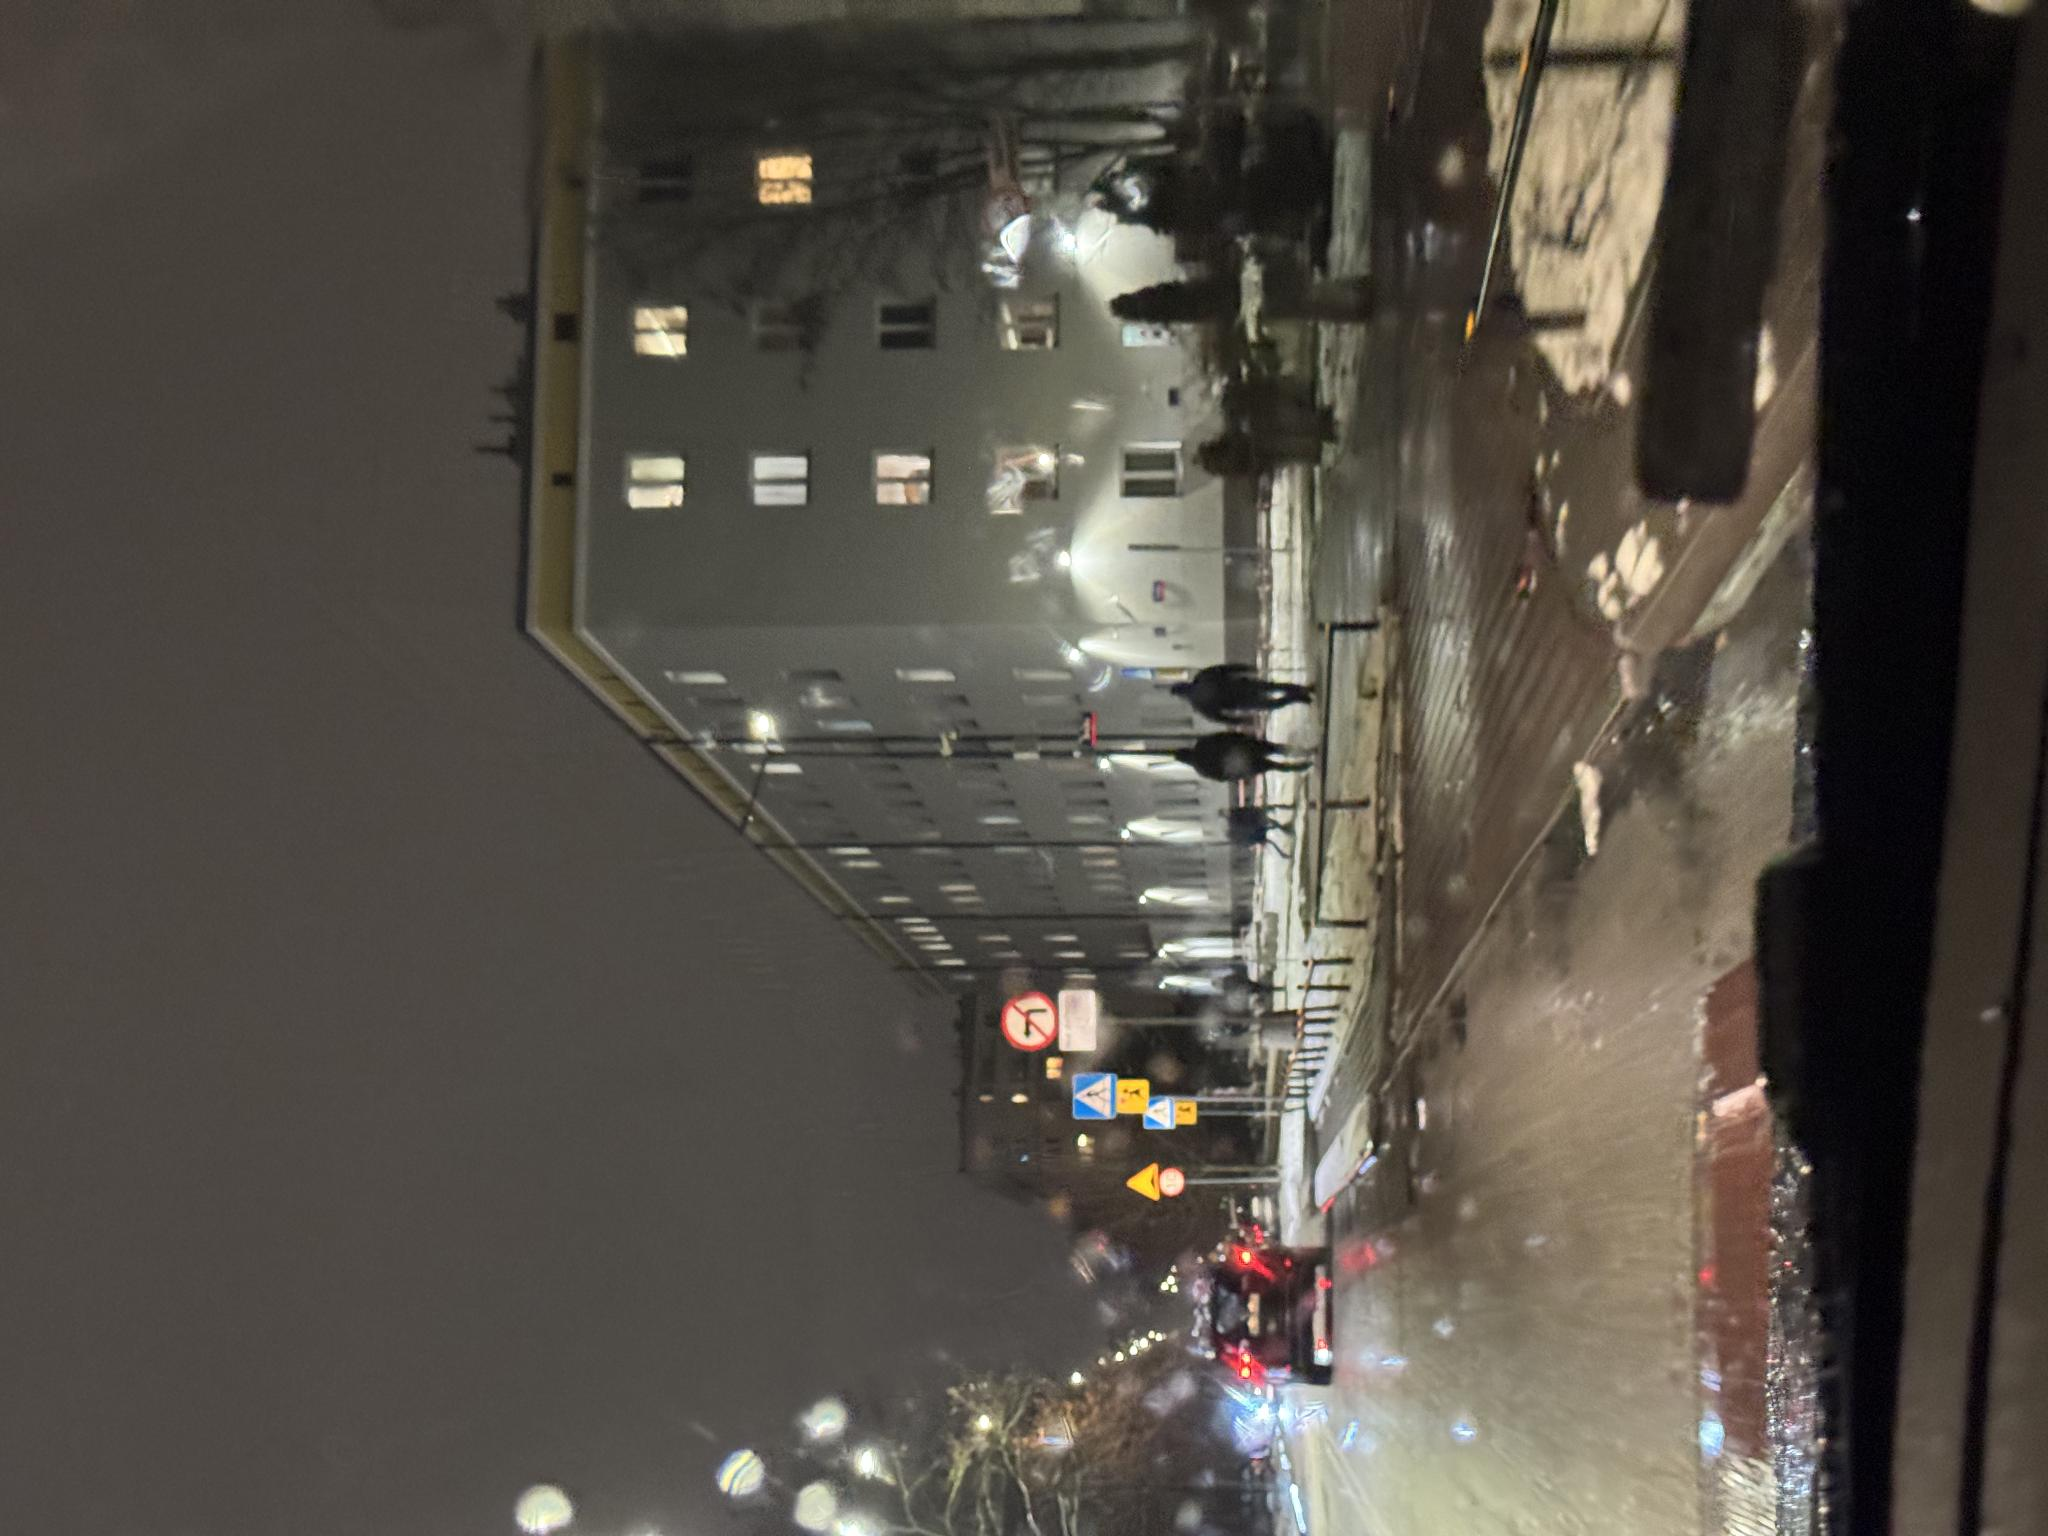information: (416, 1073, 463, 1117), (405, 1142, 439, 1173)
other: (423, 1117, 458, 1149), (411, 1173, 434, 1197)
prohibitory: (484, 999, 545, 1058), (340, 1158, 369, 1184)
warning: (334, 1125, 374, 1160)
